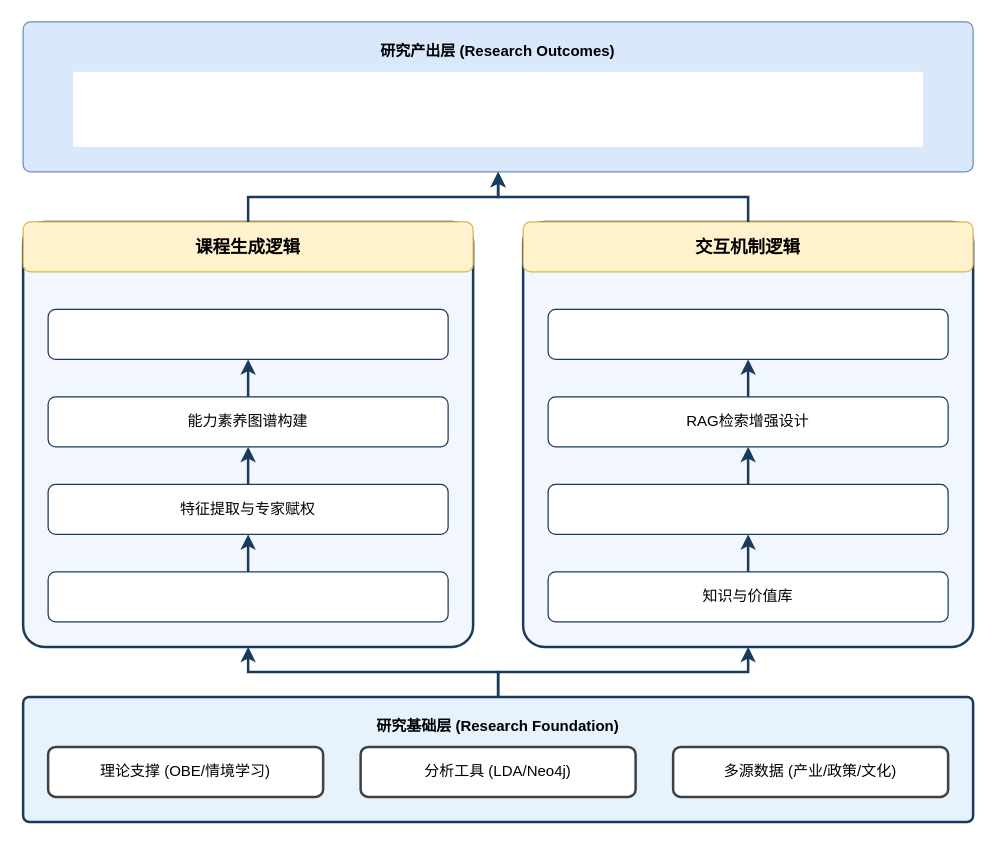
The diagram is 995 pixels wide and 845 high, and some of its shapes have lost their labels. The centre of each missing label's shape, as x and y in pixels:
"AI赋能的新农科劳动教育模式研究报告" belongs at [497,108].
"交互范式指南生成" belongs at [747,333].
"关联规则建模" belongs at [747,508].
"多源数据挖掘" belongs at [247,596].
"实训项目逆向设计" belongs at [247,333].
